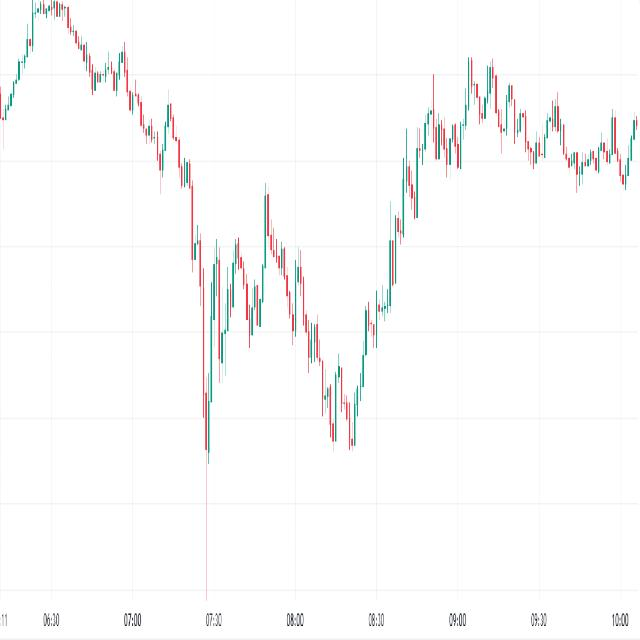Double-Bottom: (314, 351, 371, 461)
Head-Shoulders: (225, 172, 315, 339)
